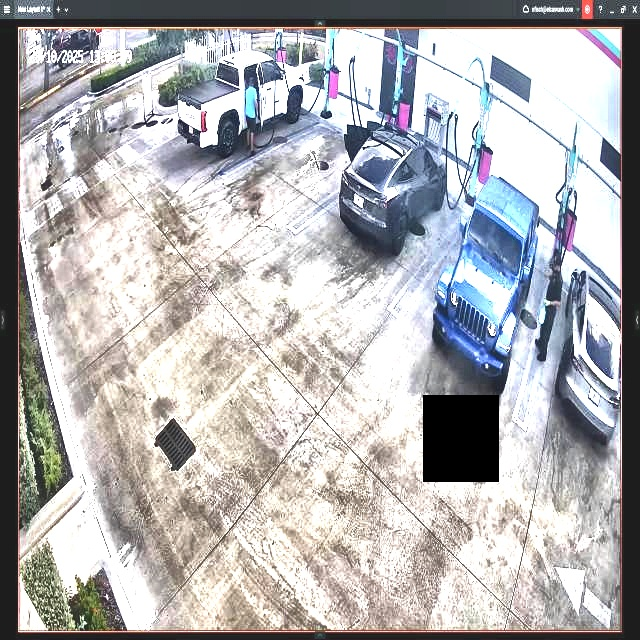Car: (434, 175, 536, 392), (341, 119, 447, 251), (175, 51, 304, 149)
